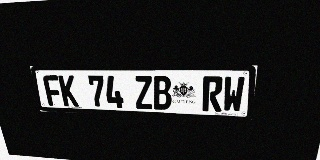4: (104, 75, 124, 108)
7: (87, 75, 107, 108)
B: (152, 76, 172, 110)
F: (42, 75, 63, 106)
K: (58, 75, 79, 107)
R: (202, 76, 223, 112)
W: (222, 76, 245, 112)
Z: (134, 76, 153, 109)
